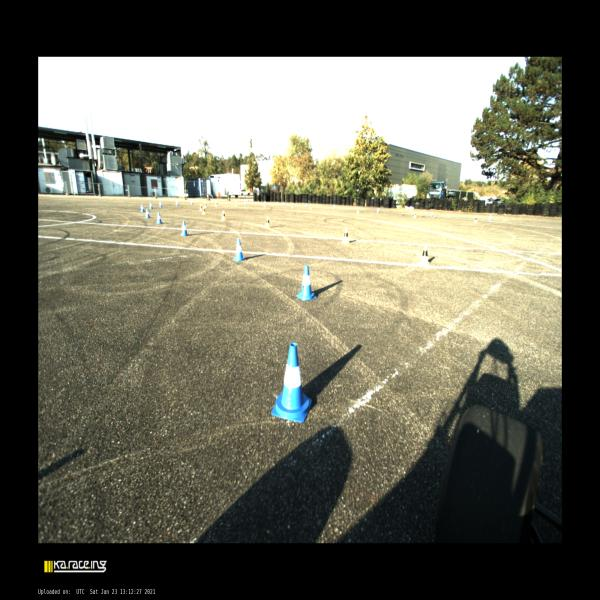blue_cone: (271, 343, 312, 422), (296, 265, 317, 301), (233, 239, 246, 261), (180, 221, 188, 236), (156, 212, 163, 224), (140, 204, 145, 212), (146, 209, 150, 218), (149, 202, 153, 209), (488, 214, 492, 221), (159, 201, 162, 207), (244, 199, 247, 205), (377, 207, 380, 212), (430, 211, 433, 216), (176, 200, 178, 206), (333, 204, 335, 209), (264, 200, 266, 205), (283, 202, 285, 206), (306, 203, 308, 207), (191, 201, 193, 205)
yellow_cone: (420, 244, 430, 266), (341, 227, 350, 244), (265, 216, 270, 229), (221, 210, 226, 221), (474, 214, 478, 223), (202, 206, 206, 214), (198, 204, 202, 211), (413, 211, 417, 218), (204, 201, 207, 208), (215, 201, 218, 207), (235, 201, 238, 206), (357, 207, 359, 213), (310, 204, 312, 210), (292, 203, 294, 208), (264, 202, 266, 207)
